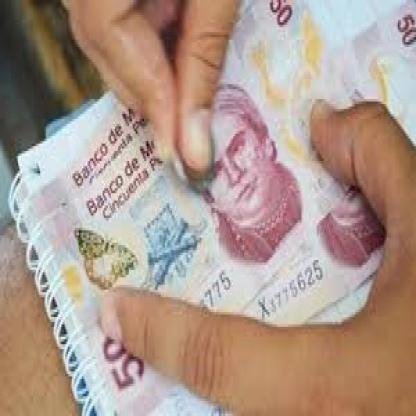billete: (33, 0, 415, 414)
